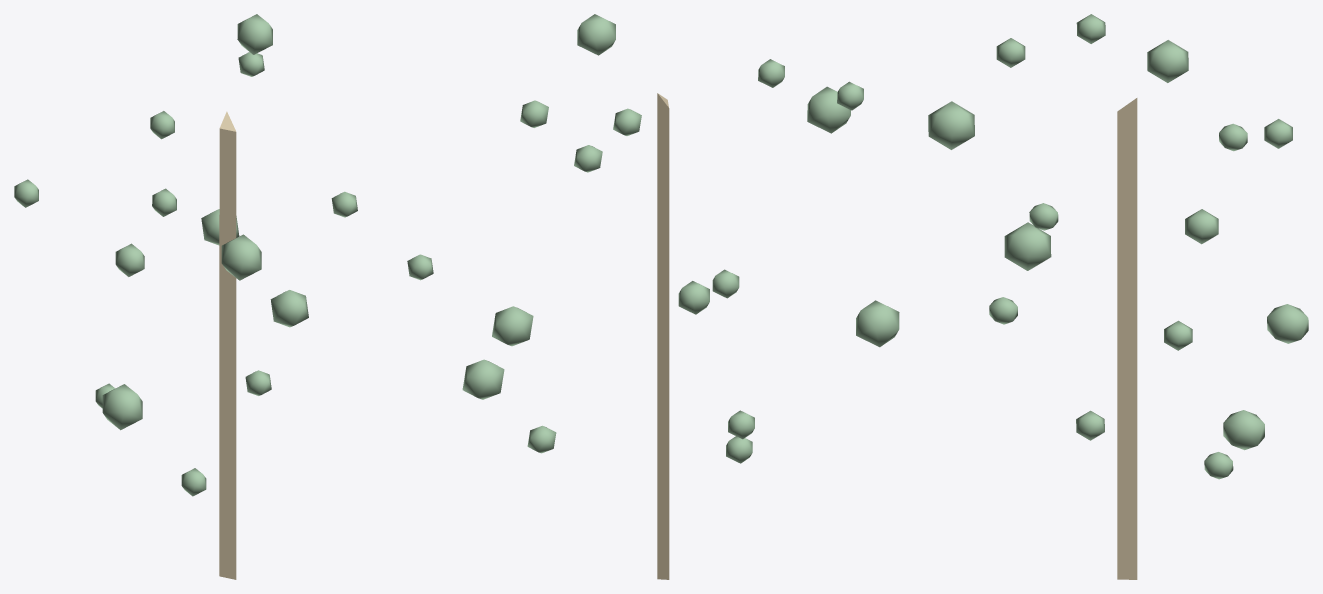
3 renders of one model, left to right at view 1: azimuth 30°, elevation 25°; view 2: azimuth 150°, elevation 25°; view 3: azimuth 270°, elevation 25°, orthographic. The views are drawn at different scales.
Parts seen in each view (by area): view 1: Box048, Sphere223, Sphere146, Sphere228, Sphere149, Sphere142, Sphere153, Sphere224; view 2: Box048, Sphere223, Sphere146, Sphere228, Sphere153, Sphere149, Sphere142, Sphere150, Sphere152, Sphere151, Sphere227, Sphere139 (+4 smaller); view 3: Box048, Sphere146, Sphere223, Sphere149, Sphere228, Sphere153, Sphere142, Sphere147, Sphere139, Sphere224, Sphere148, Sphere225 (+4 smaller).
Part boxes in pixels (x1,y1,x2,y2): Box048: (219,111,236,579); Sphere223: (102,384,142,430); Sphere146: (221,234,261,280); Sphere228: (270,290,308,327); Sphere149: (237,14,272,54); Sphere142: (115,243,144,276); Sphere153: (201,209,239,245); Sphere224: (181,468,206,496); Box048: (657,93,669,579); Sphere223: (856,300,899,347); Sphere146: (807,86,850,133); Sphere228: (462,359,504,399); Sphere153: (492,306,533,346); Sphere149: (577,14,615,55); Sphere142: (678,281,709,314); Sphere150: (520,100,548,127); Sphere152: (574,145,602,172); Sphere151: (613,108,641,135); Sphere227: (527,425,556,453); Sphere139: (712,269,739,298); Box048: (1117,98,1137,579); Sphere146: (928,101,974,149); Sphere223: (1004,222,1051,270); Sphere149: (1147,40,1188,82); Sphere228: (1223,410,1264,450); Sphere153: (1267,304,1308,343); Sphere142: (1185,209,1218,244); Sphere147: (996,38,1025,67); Sphere139: (1264,119,1292,148); Sphere224: (1076,410,1104,440); Sphere148: (1076,14,1105,43); Sphere225: (1164,320,1192,350).
Size of the model in its own units: 6.26 by 10.04 by 6.21.
